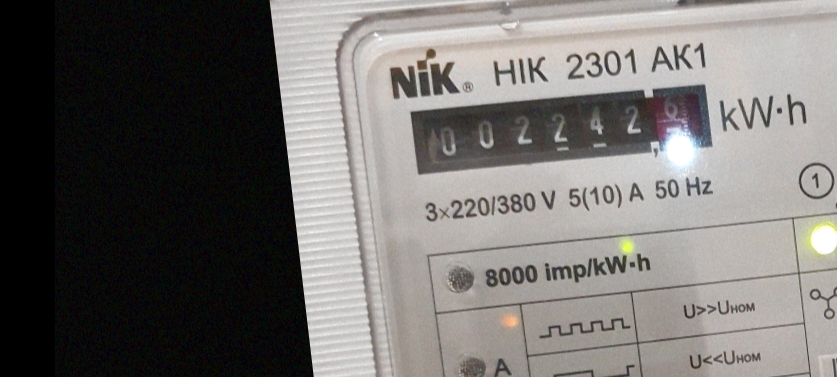0: (435, 124, 459, 160), (473, 118, 495, 152)
2: (547, 110, 569, 146), (511, 113, 533, 147), (621, 104, 642, 137)
4: (585, 104, 605, 138)
6: (660, 93, 679, 122)
screen: (397, 67, 723, 193)
